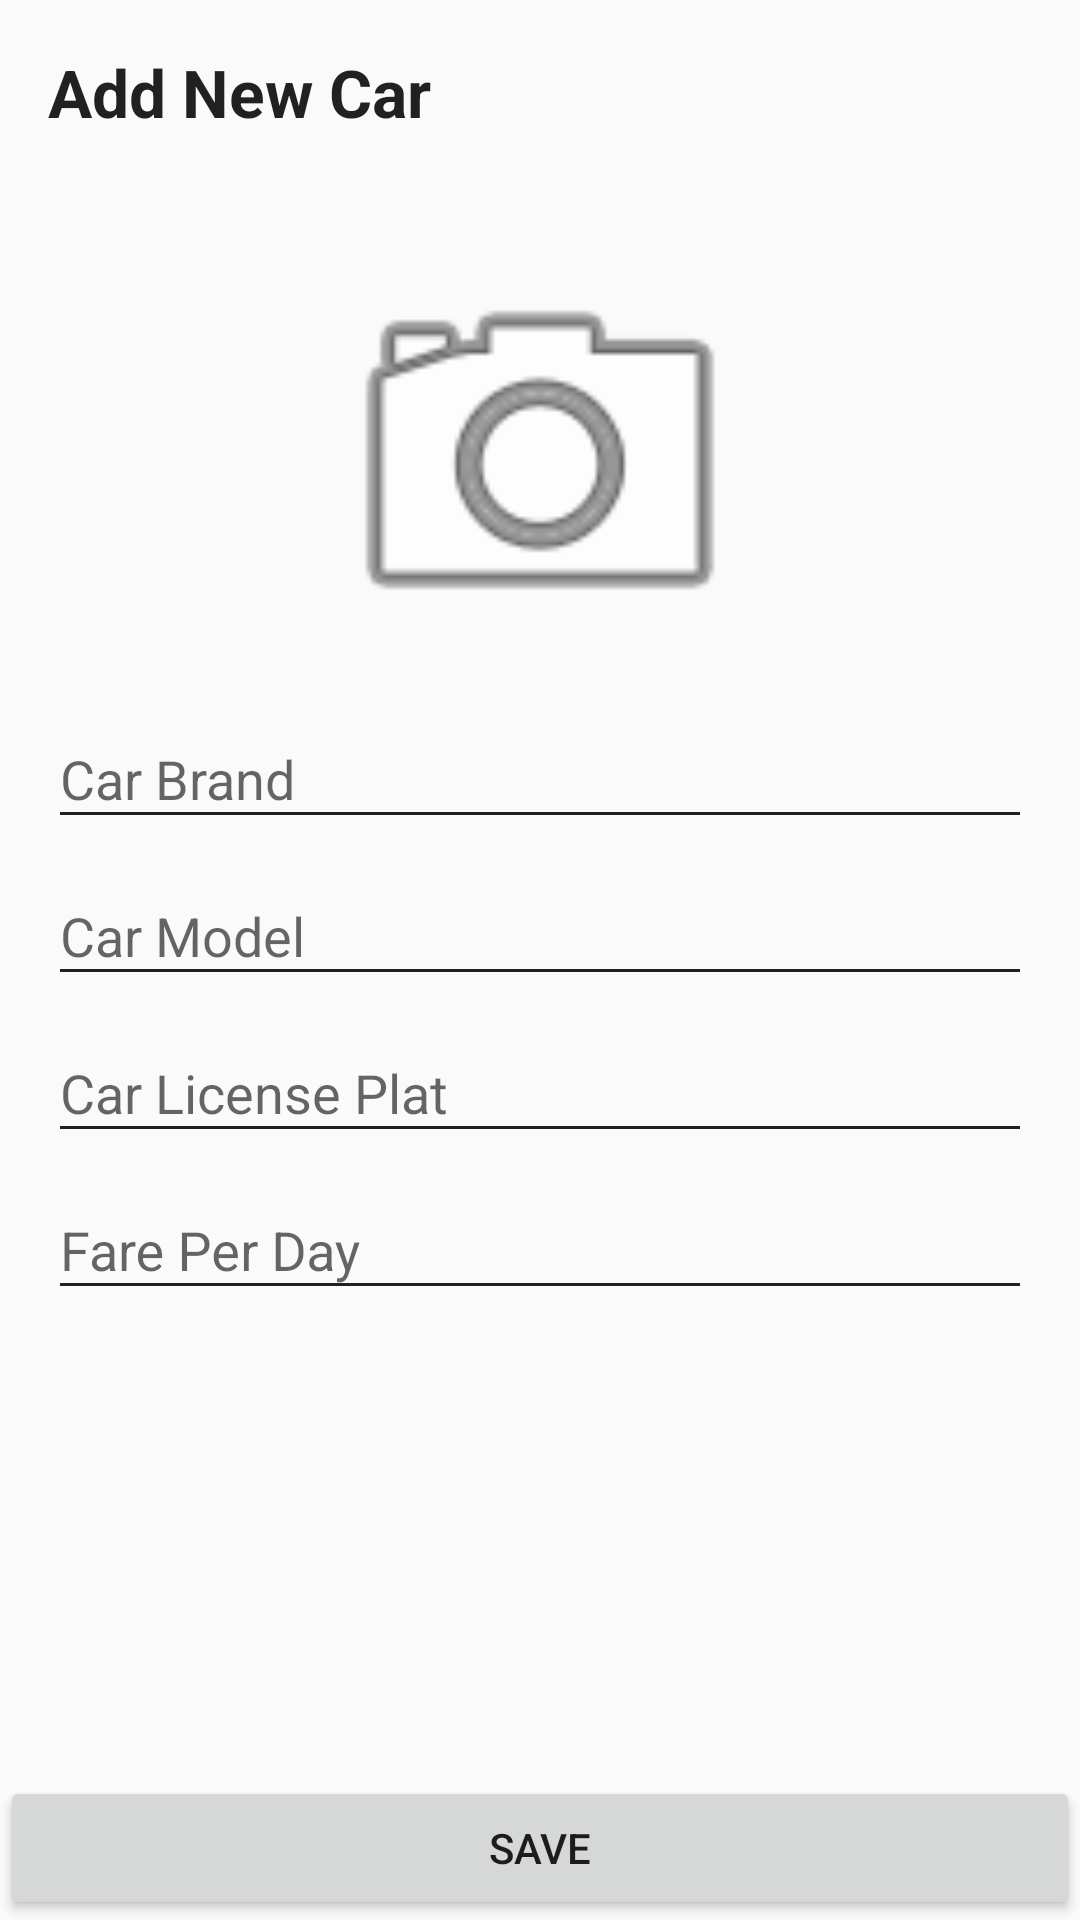

Icon click points for this 1080 x 1920 phone screenshot, format (x=x, y=y):
camera: (x=540, y=450)
